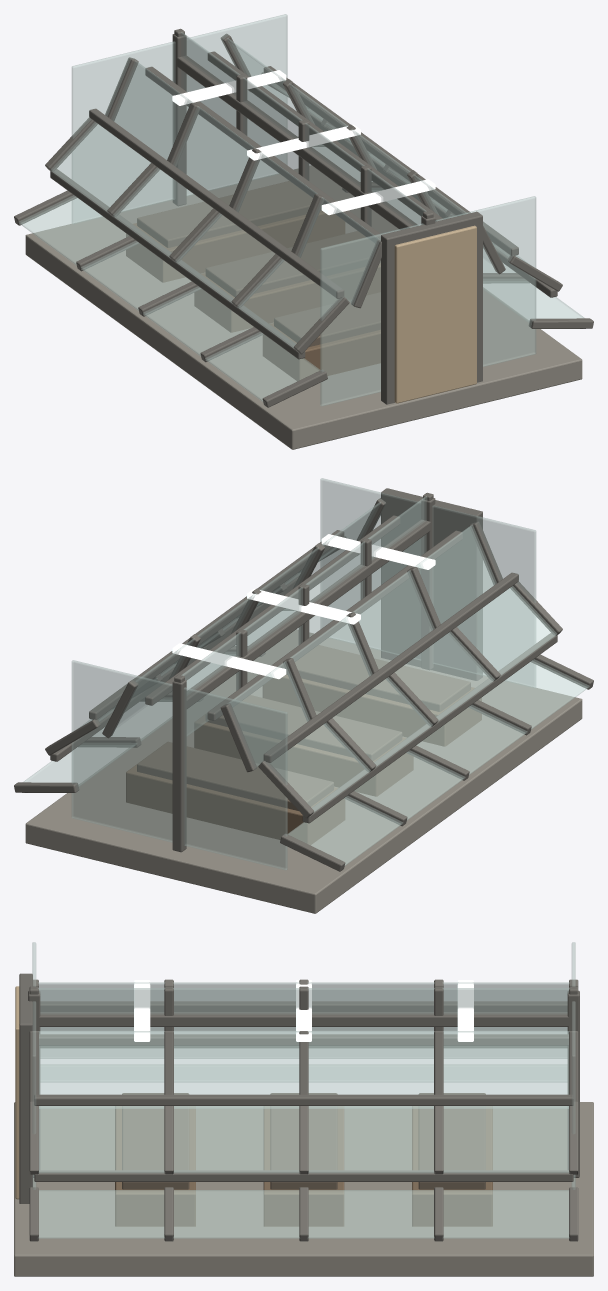
Rendered from greenhouse.glb.
3 renders of one model, top to bottom at view 1: azimuth 30°, elevation 25°; view 2: azimuth 150°, elevation 25°; view 3: azimuth 270°, elevation 25°, orthographic. The views are drawn at different scales.
Visible parts, largest first — view 1: base; view 2: base; view 3: base.
Part boxes in pixels (x1,y1,x2,y2): base: [14, 14, 593, 449]; base: [14, 478, 593, 913]; base: [14, 942, 593, 1276].
Size of the model in its own units: 3.05 by 1.74 by 4.3.
